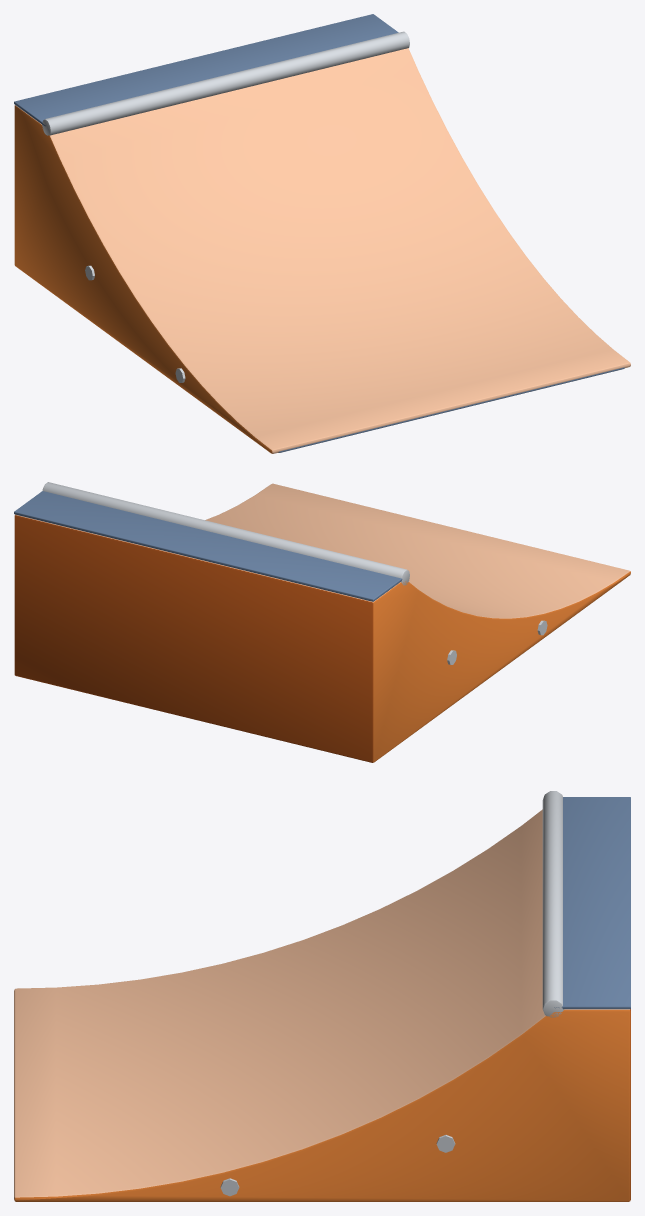
The model's file is skate_rampa_salto.glb.
3 renders of one model, top to bottom at view 1: azimuth 30°, elevation 25°; view 2: azimuth 150°, elevation 25°; view 3: azimuth 270°, elevation 25°, orthographic. The views are drawn at different scales.
Visible parts, largest first — view 1: colisao_kicker, skate_rampa_salto; view 2: colisao_kicker, skate_rampa_salto; view 3: colisao_kicker, skate_rampa_salto.
Part boxes in pixels (bbox=[...]): colisao_kicker: bbox=[14, 48, 630, 453]; skate_rampa_salto: bbox=[14, 14, 624, 452]; colisao_kicker: bbox=[14, 483, 630, 762]; skate_rampa_salto: bbox=[14, 482, 547, 664]; colisao_kicker: bbox=[14, 809, 630, 1201]; skate_rampa_salto: bbox=[220, 791, 630, 1196].
Size of the model in its own units: 1.62 by 0.7211 by 1.99.
1 material, 1 textured.
